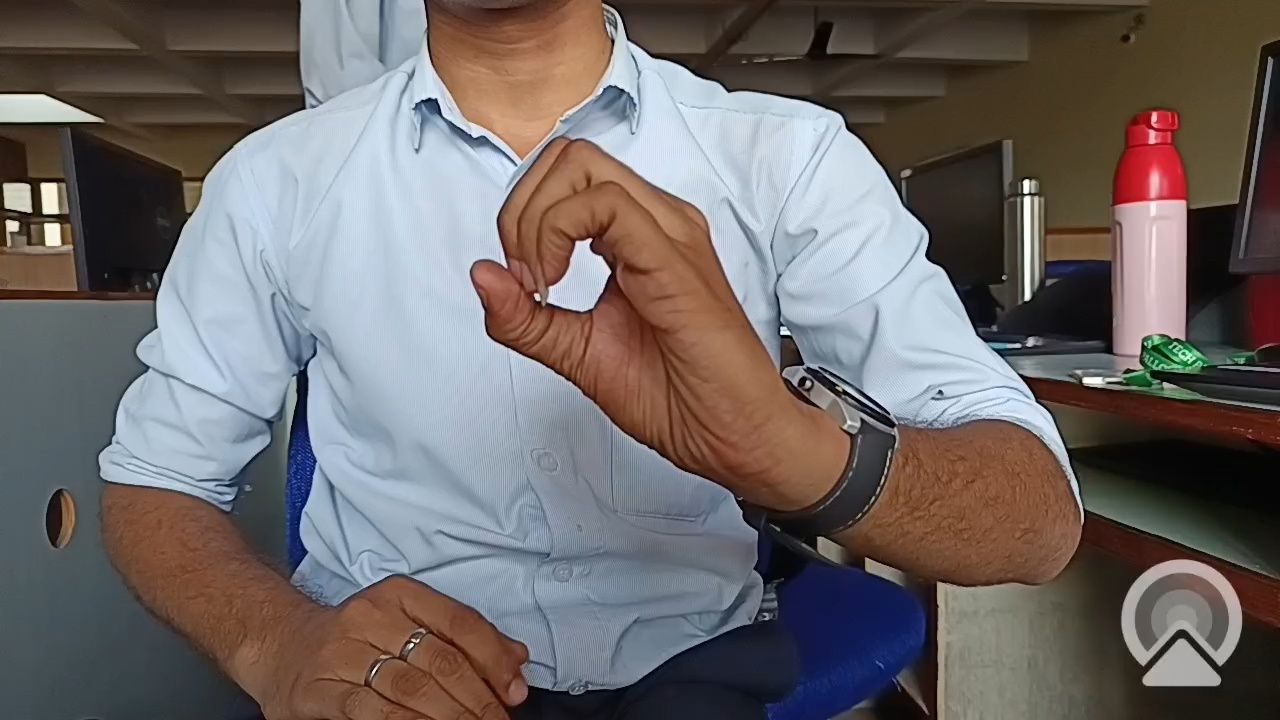O: (462, 121, 827, 525)
